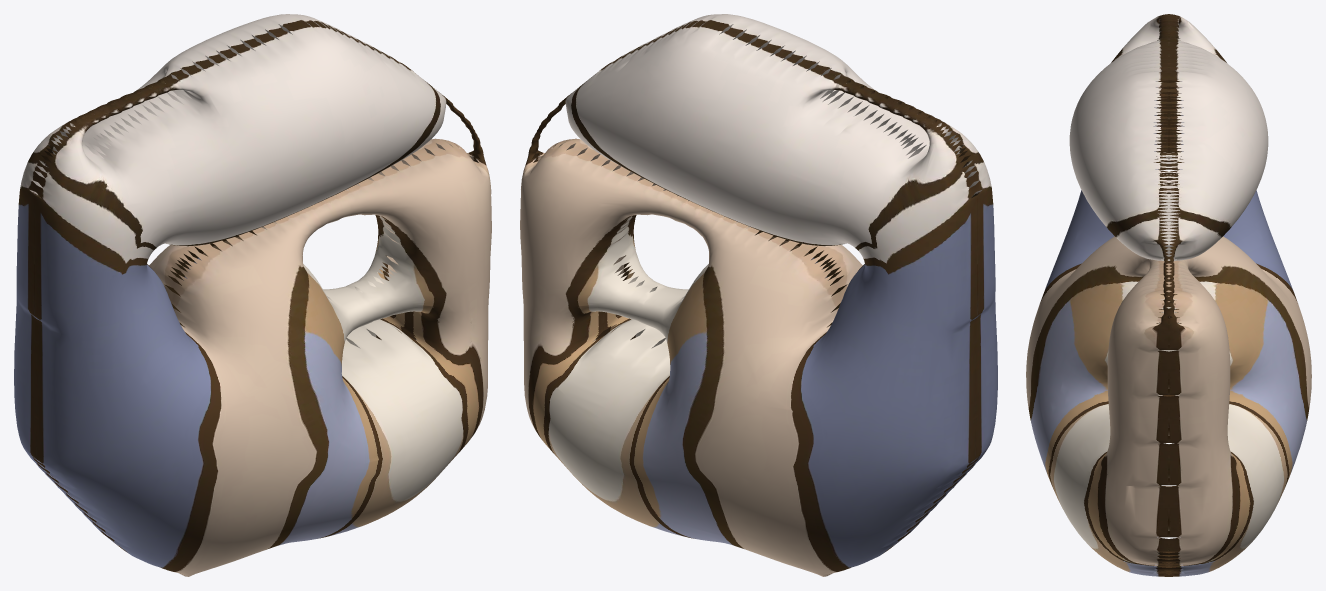
Rendered from white_hatch_pod.glb.
3 views of the same model, side by side, from view 1: azimuth 30°, elevation 25°; view 2: azimuth 150°, elevation 25°; view 3: azimuth 270°, elevation 25° (orthographic). The views are drawn at different scales.
Visible parts, largest first — view 1: white_hatch_pod; view 2: white_hatch_pod; view 3: white_hatch_pod.
Boxes of the visible parts, left/top/right/bottom form: white_hatch_pod: left=14, top=14, right=491, bottom=576; white_hatch_pod: left=520, top=14, right=997, bottom=576; white_hatch_pod: left=1026, top=14, right=1311, bottom=576.
Size of the model in its own units: 0.9881 by 1.07 by 0.5768.
Materials: 1 (1 with a texture image).
